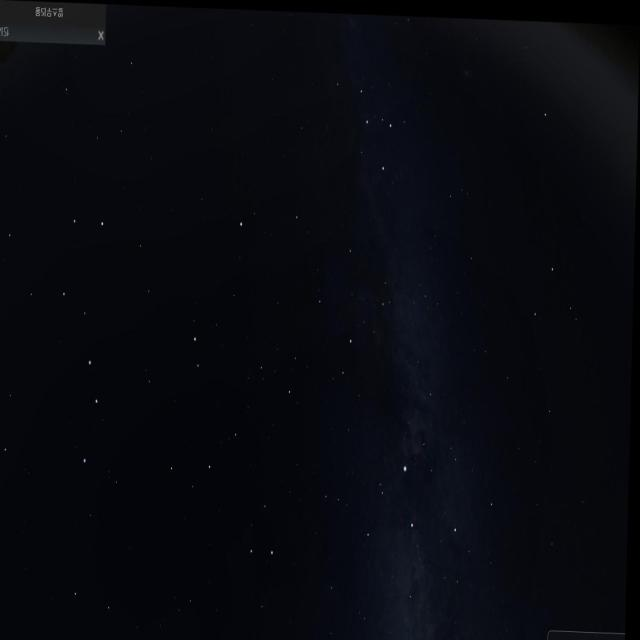cassiopeia: (322, 71, 427, 175)
cygnus: (365, 444, 463, 640)
ursa_major: (44, 182, 114, 494)
